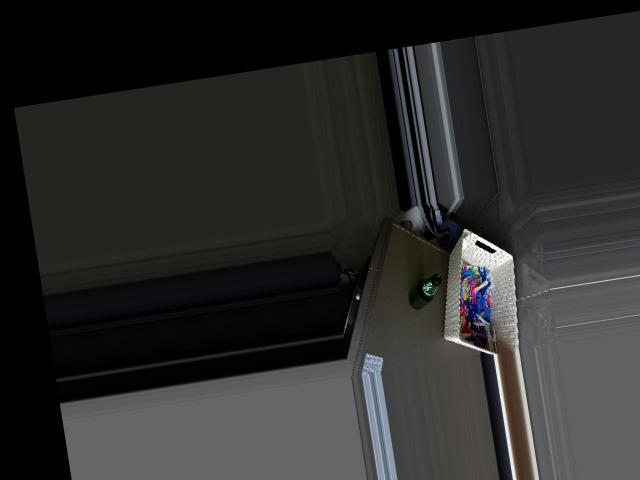beer: (404, 272, 444, 310)
